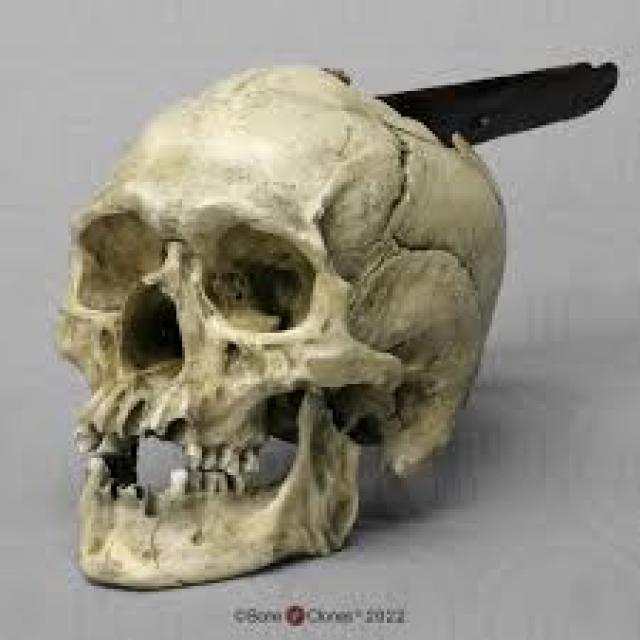skull: (46, 39, 525, 604)
